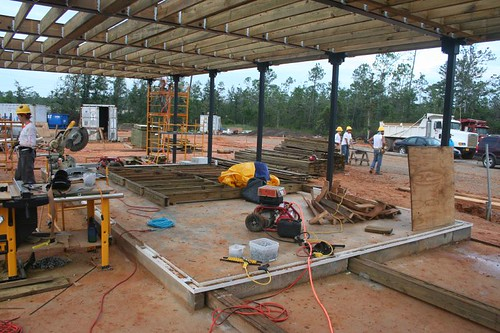person hardhat: (15, 101, 45, 186), (368, 124, 384, 174), (344, 122, 355, 164), (333, 124, 342, 162)
